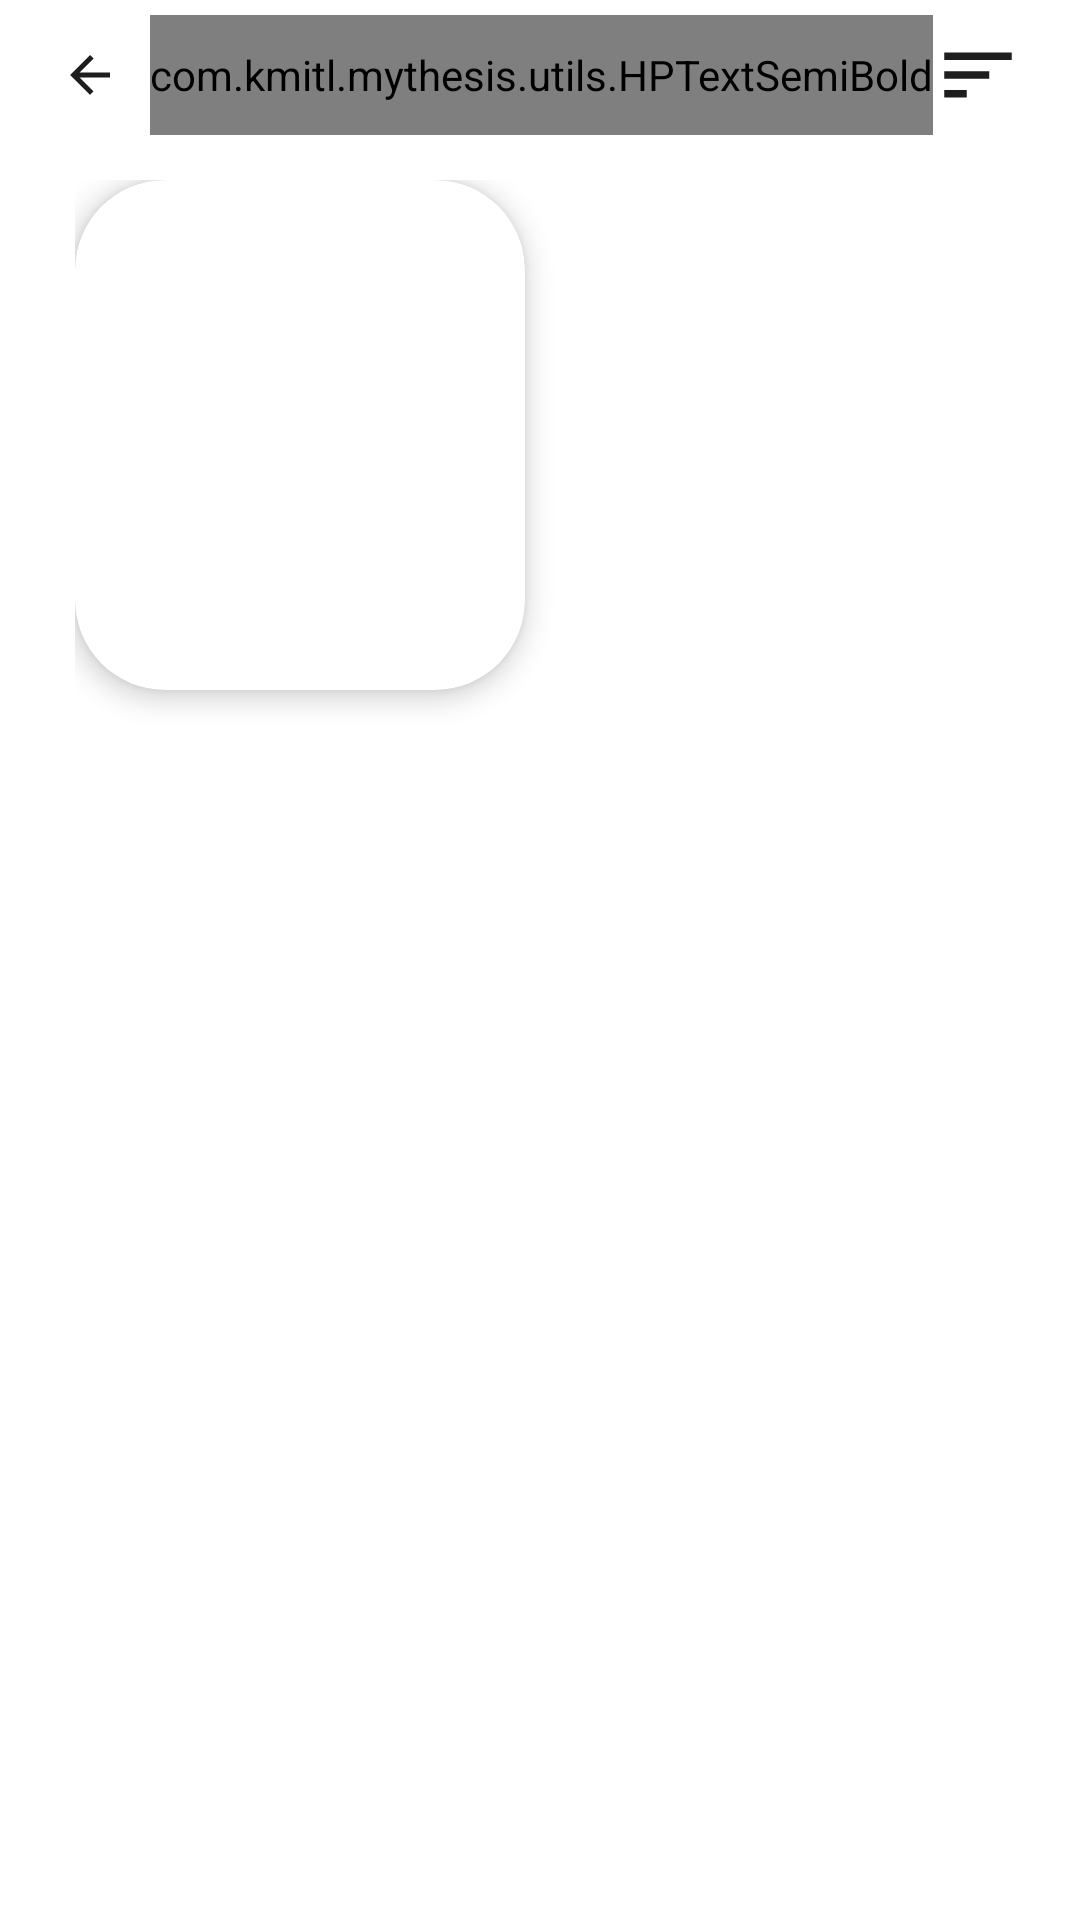

Where to tap for icons on this 1080px x 1920px app screen, as (x,y):
back: (90,75)
sort: (978,75)
